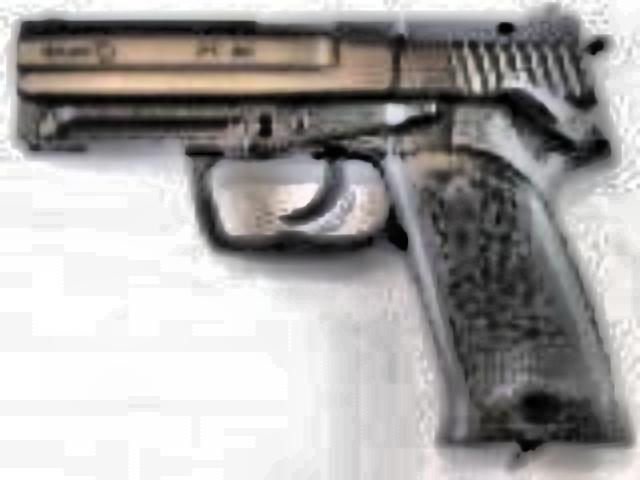pistol: (12, 8, 628, 444)
